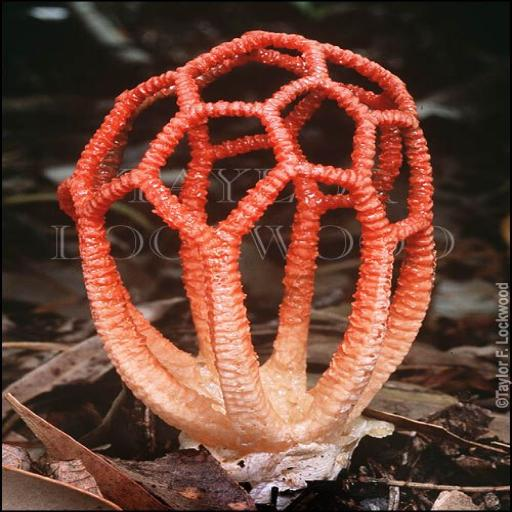Red Cage Fungus: (30, 0, 492, 491)
